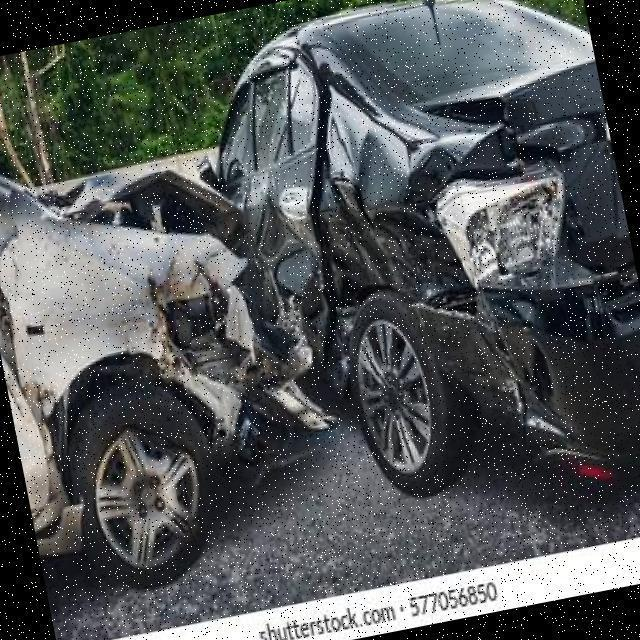accident: (0, 0, 635, 513)
